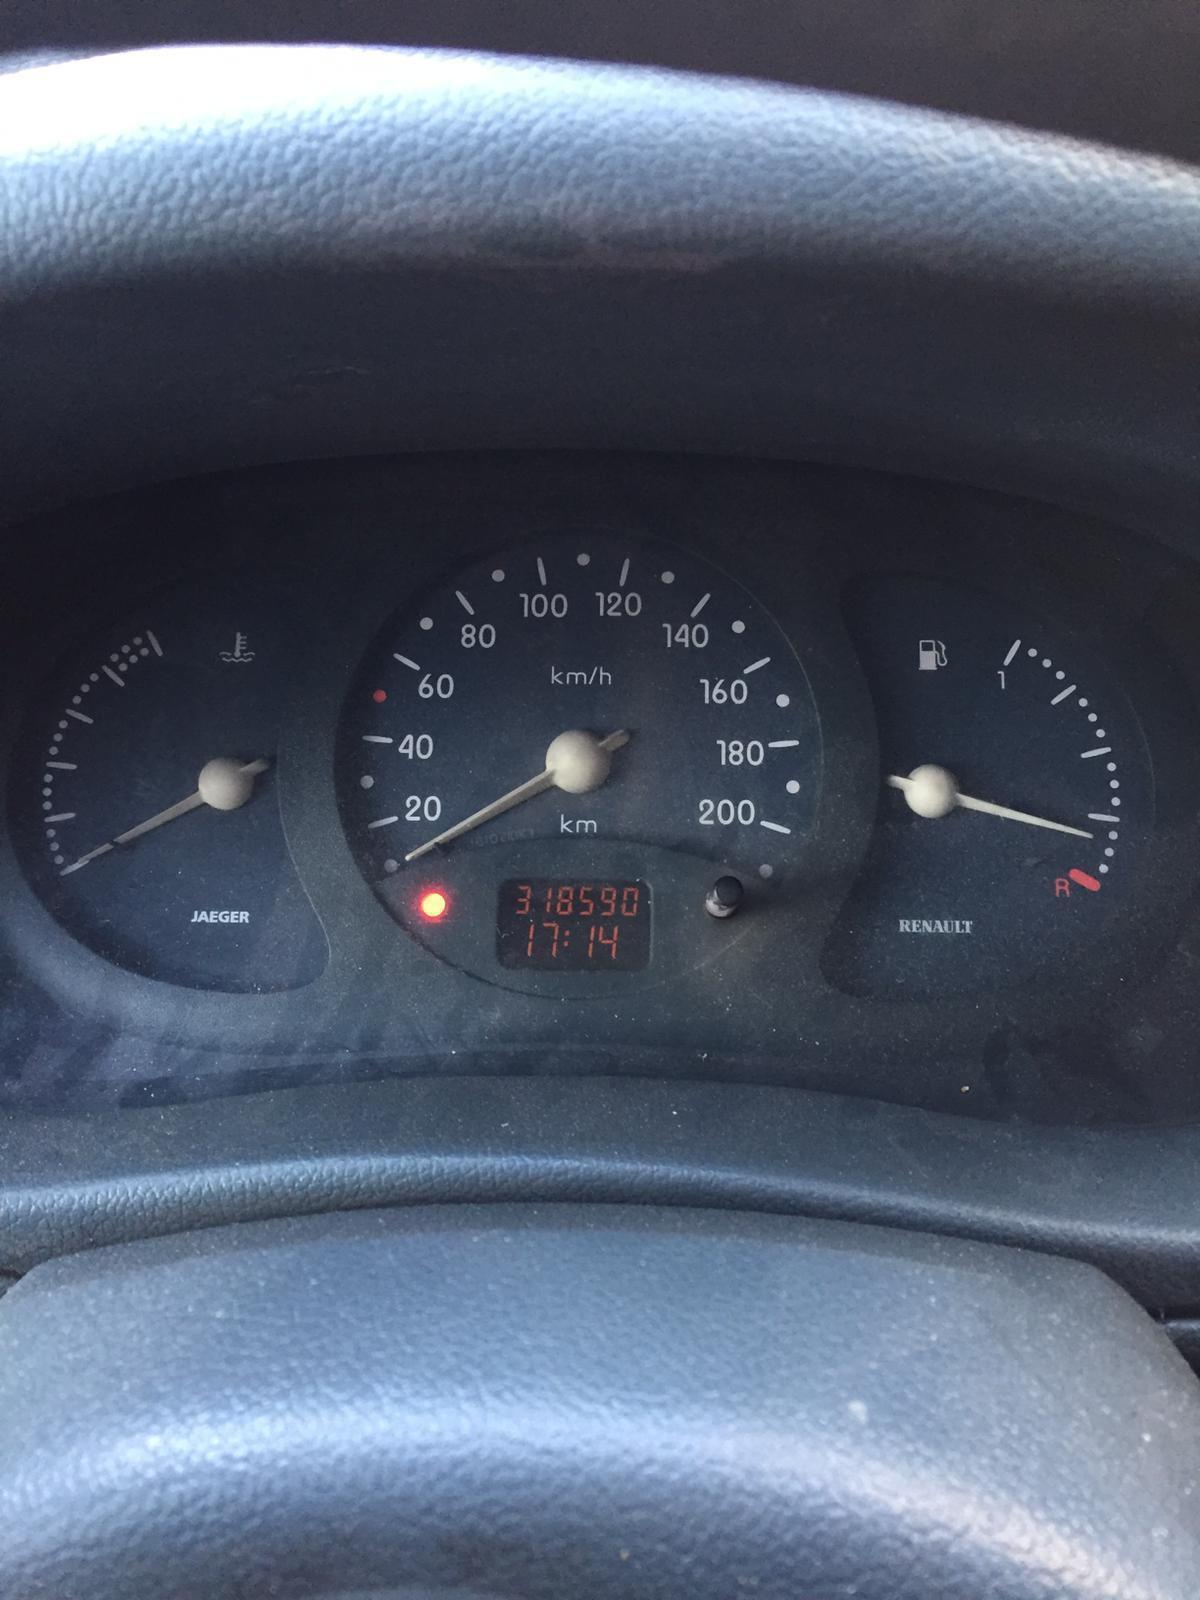0: (621, 887, 638, 916)
1: (526, 923, 534, 957), (587, 925, 595, 959), (545, 887, 552, 913)
3: (514, 884, 531, 915)
4: (597, 923, 619, 959)
5: (579, 886, 594, 916)
7: (541, 922, 558, 957)
8: (556, 884, 574, 915)
9: (599, 887, 616, 916)
X: (562, 929, 571, 947)
odometer: (492, 873, 655, 974)
